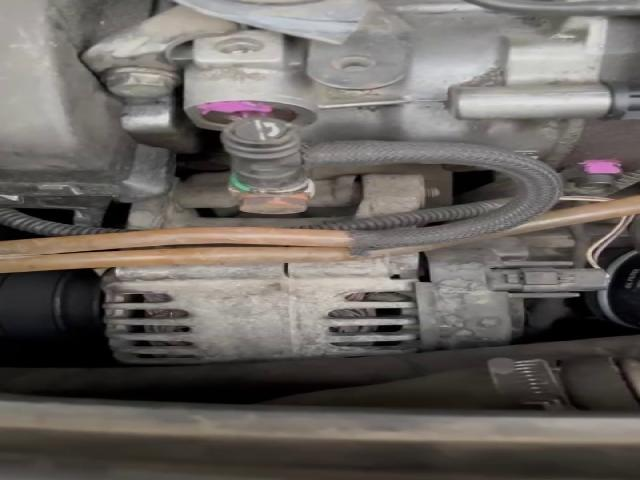alternator: (104, 254, 417, 364)
high_pressure_pump: (181, 0, 640, 195)
